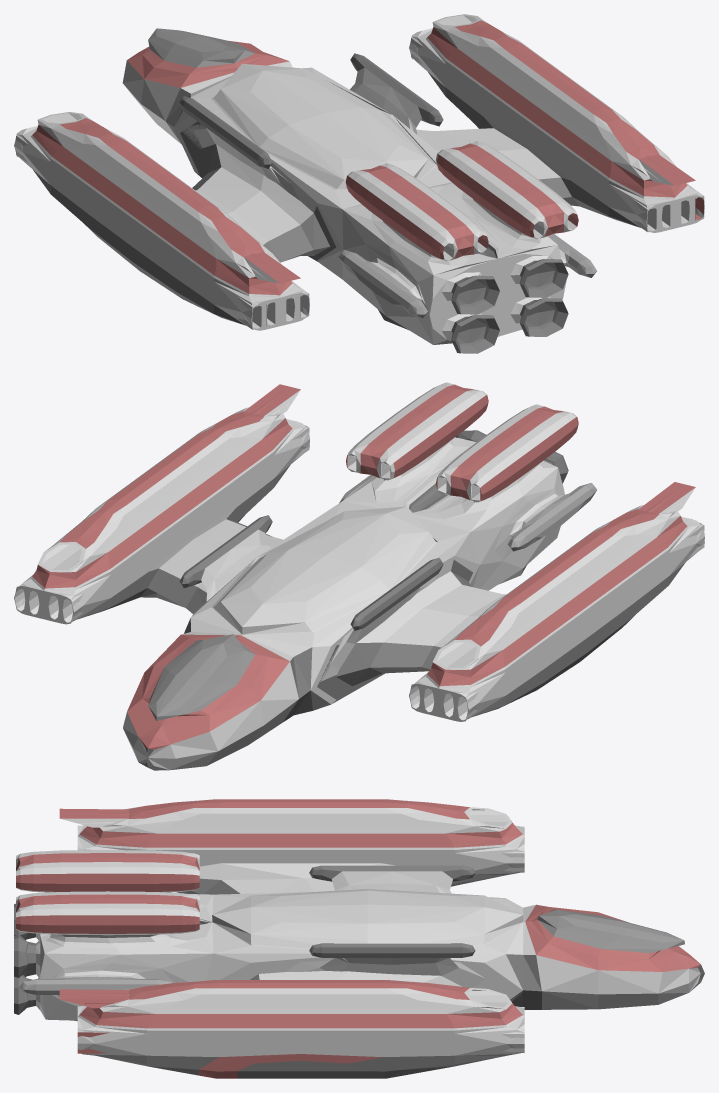
The model's file is spaceShip.fbx.
3 views of the same model, one above another, from view 1: azimuth 30°, elevation 25°; view 2: azimuth 150°, elevation 25°; view 3: azimuth 270°, elevation 25° (orthographic). The views are drawn at different scales.
Parts seen in each view (by area): view 1: pCube1; view 2: pCube1; view 3: pCube1.
Part boxes in pixels (x1,y1,x2,y2): pCube1: (14, 14, 704, 353); pCube1: (14, 382, 704, 770); pCube1: (14, 799, 704, 1078).
Size of the model in its own units: 18.23 by 4.78 by 25.41.
